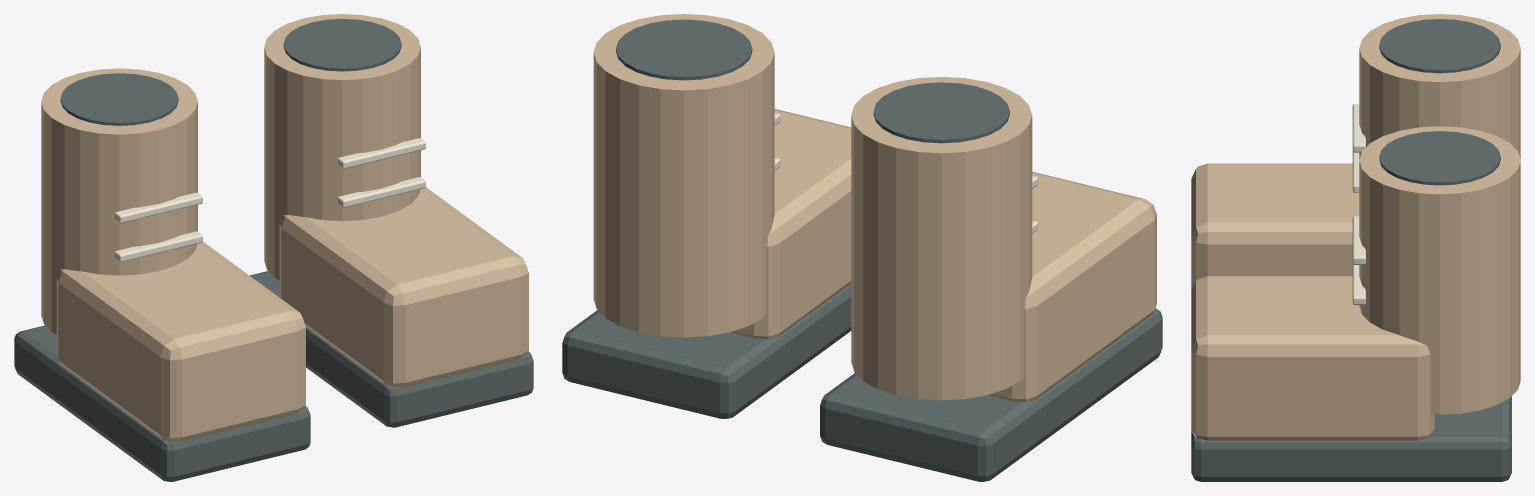
3 views of the same model, side by side, from view 1: azimuth 30°, elevation 25°; view 2: azimuth 150°, elevation 25°; view 3: azimuth 270°, elevation 25° (orthographic). The views are drawn at different scales.
Visible parts, largest first — view 1: toe box, toe box.001, hollow boot shaft, hollow boot shaft.001, boot sole, boot sole.001, dark empty opening, dark empty opening.001, lace.005, lace.001, lace.004, lace.002; view 2: hollow boot shaft.001, hollow boot shaft, toe box, boot sole, boot sole.001, toe box.001, dark empty opening.001, dark empty opening; view 3: toe box.001, hollow boot shaft.001, toe box, boot sole.001, hollow boot shaft, dark empty opening, dark empty opening.001, lace.005, lace.002, lace.004.
Part boxes in pixels (left/top/right/bottom): toe box: left=56, top=242, right=305, bottom=441; toe box.001: left=279, top=187, right=528, bottom=387; hollow boot shaft: left=41, top=68, right=197, bottom=334; hollow boot shaft.001: left=264, top=14, right=420, bottom=279; boot sole: left=14, top=325, right=310, bottom=481; boot sole.001: left=250, top=271, right=533, bottom=427; dark empty opening: left=60, top=73, right=178, bottom=125; dark empty opening.001: left=283, top=18, right=401, bottom=71; lace.005: left=337, top=138, right=425, bottom=168; lace.001: left=114, top=231, right=202, bottom=262; lace.004: left=337, top=177, right=425, bottom=207; lace.002: left=114, top=192, right=202, bottom=223; hollow boot shaft.001: left=593, top=14, right=774, bottom=337; hollow boot shaft: left=851, top=77, right=1032, bottom=400; toe box: left=988, top=171, right=1156, bottom=402; boot sole: left=820, top=308, right=1162, bottom=481; boot sole.001: left=562, top=284, right=851, bottom=418; toe box.001: left=730, top=109, right=851, bottom=339; dark empty opening.001: left=616, top=19, right=752, bottom=80; dark empty opening: left=873, top=82, right=1009, bottom=143; toe box.001: left=1191, top=276, right=1434, bottom=440; hollow boot shaft.001: left=1359, top=126, right=1520, bottom=414; toe box: left=1191, top=163, right=1359, bottom=290; boot sole.001: left=1191, top=396, right=1511, bottom=481; hollow boot shaft: left=1359, top=14, right=1520, bottom=159; dark empty opening: left=1379, top=19, right=1500, bottom=73; dark empty opening.001: left=1379, top=131, right=1500, bottom=185; lace.005: left=1352, top=216, right=1365, bottom=264; lace.002: left=1352, top=104, right=1365, bottom=152; lace.004: left=1352, top=264, right=1365, bottom=304.
Bounding box in the file's own units: 0.4 × 0.291 × 0.298.
